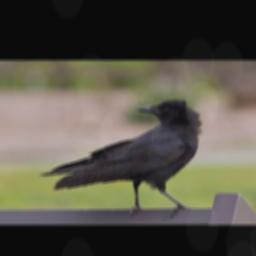Crow: (38, 99, 204, 217)
